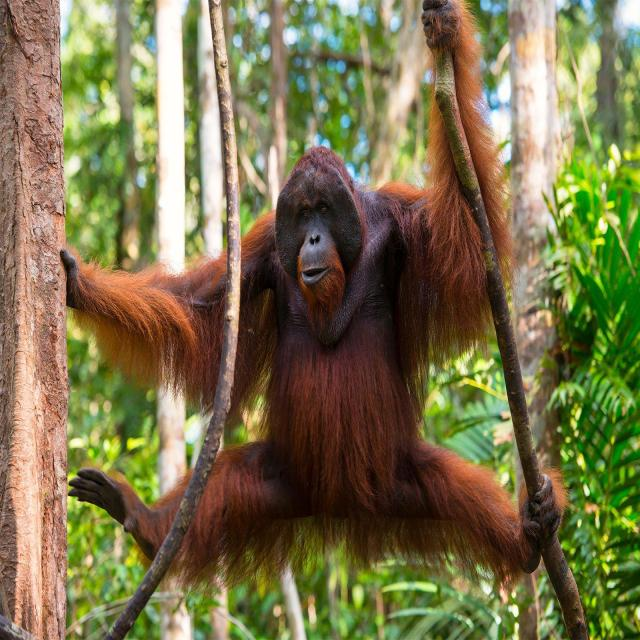Chimpanzee: (146, 134, 540, 580)
